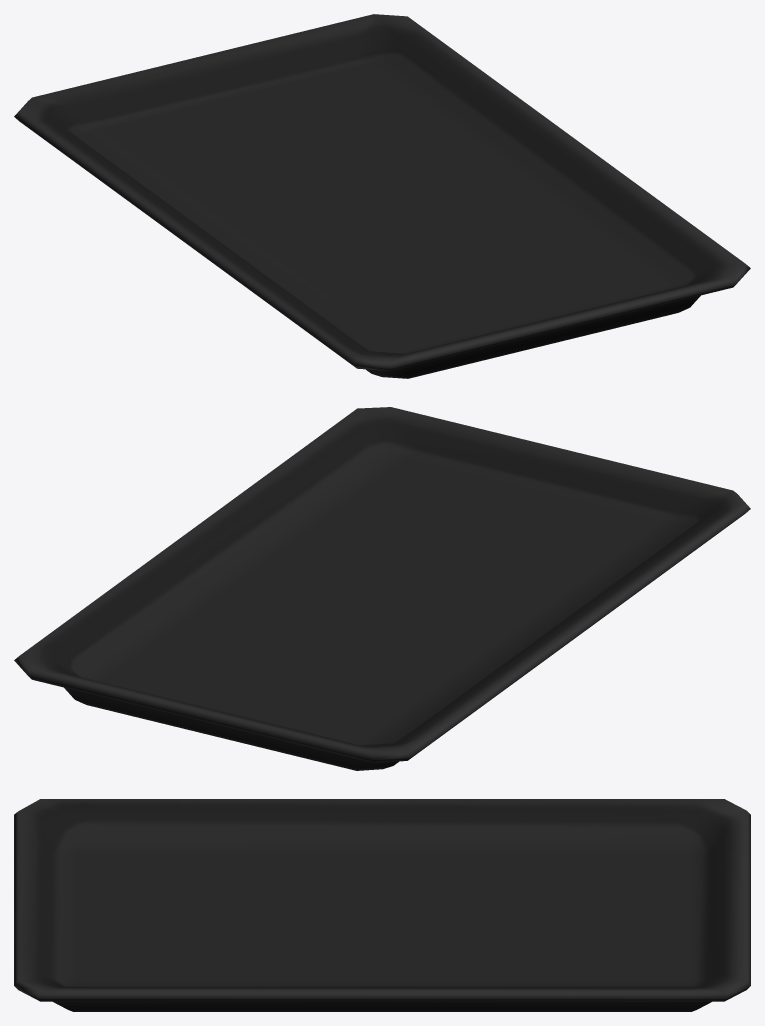
File: Tray_Narrow.fbx
The picture shows the model from 3 angles, top to bottom: view 1: azimuth 30°, elevation 25°; view 2: azimuth 150°, elevation 25°; view 3: azimuth 270°, elevation 25°; orthographic projection.
Parts seen in each view (by area): view 1: Tray_Narrow; view 2: Tray_Narrow; view 3: Tray_Narrow.
Part boxes in pixels (box(x1,y1,x2,y2)): Tray_Narrow: box(14, 14, 750, 378); Tray_Narrow: box(14, 407, 750, 770); Tray_Narrow: box(14, 799, 750, 1011).
Size of the model in its own units: 78.99 by 7.74 by 125.
